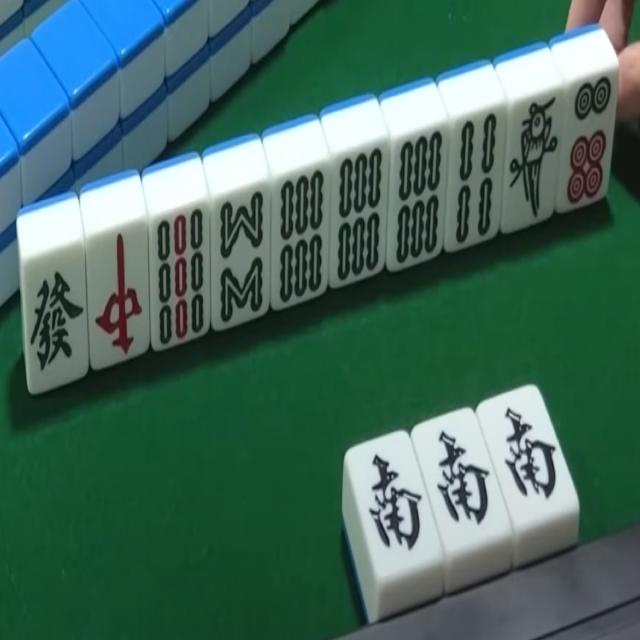1B: (507, 94, 558, 220)
4B: (451, 110, 497, 251)
6B: (270, 167, 328, 307), (330, 143, 384, 287), (391, 122, 443, 271)
6D: (566, 68, 613, 205)
8B: (217, 189, 265, 323)
9B: (152, 206, 207, 341)
GD: (25, 252, 89, 382)
RD: (88, 224, 147, 364)
SW: (348, 438, 433, 568), (486, 392, 568, 514), (425, 414, 500, 535)
